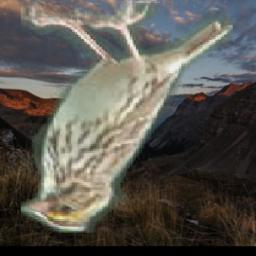Sparrow: (22, 0, 234, 233)
